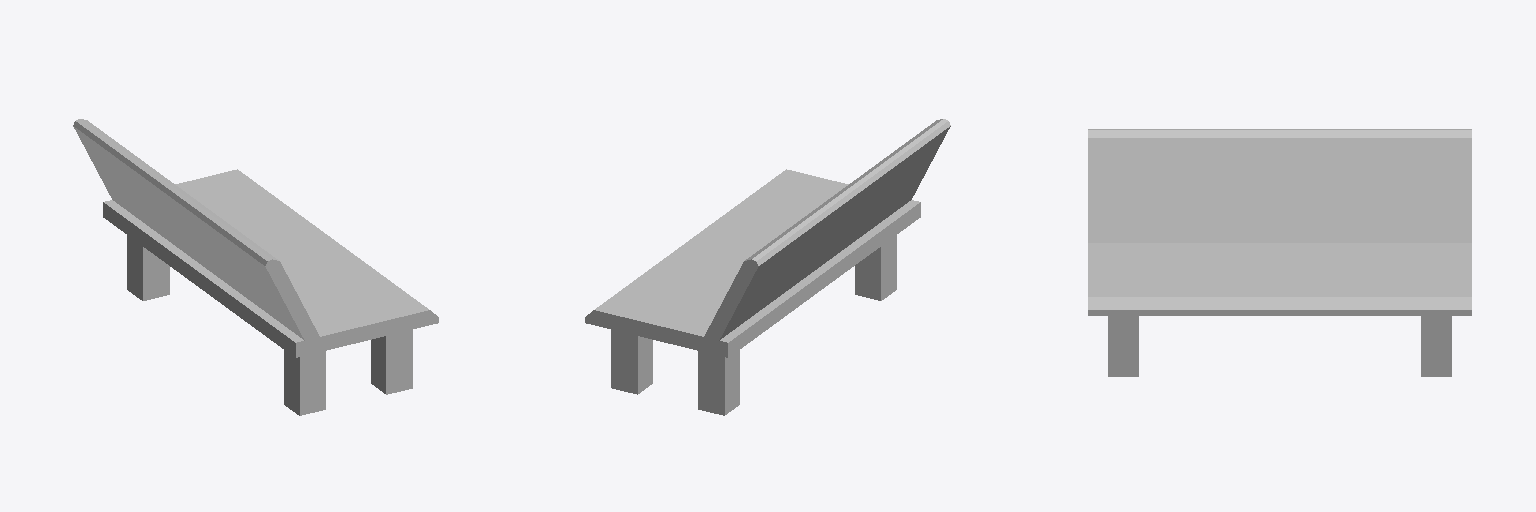
File: bank_02.obj
3 views of the same model, side by side, from view 1: azimuth 30°, elevation 25°; view 2: azimuth 150°, elevation 25°; view 3: azimuth 270°, elevation 25° (orthographic).
Parts seen in each view (by area): view 1: Bench; view 2: Bench; view 3: Bench.
Part boxes in pixels (x1,y1,x2,y2): Bench: (73, 119, 438, 415); Bench: (585, 119, 950, 415); Bench: (1088, 129, 1471, 376).
Bounding box in the file's own units: 2.54 × 2.42 × 4.88.